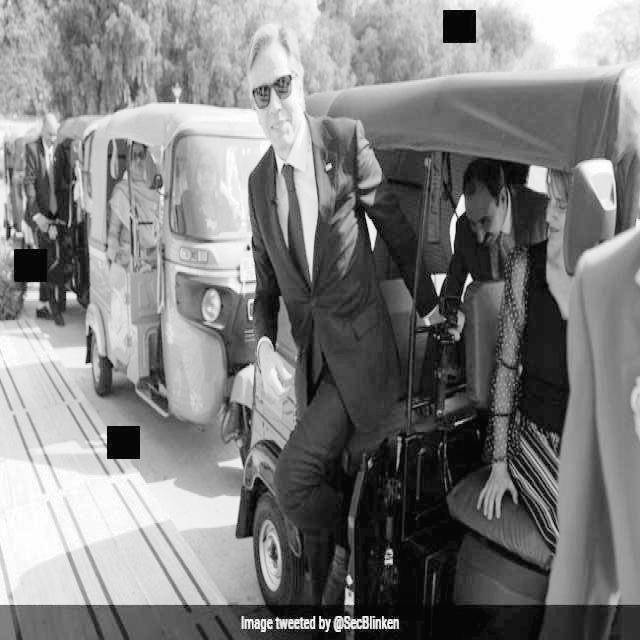Auto-Rickshaw: (247, 82, 640, 608), (85, 101, 264, 455)
